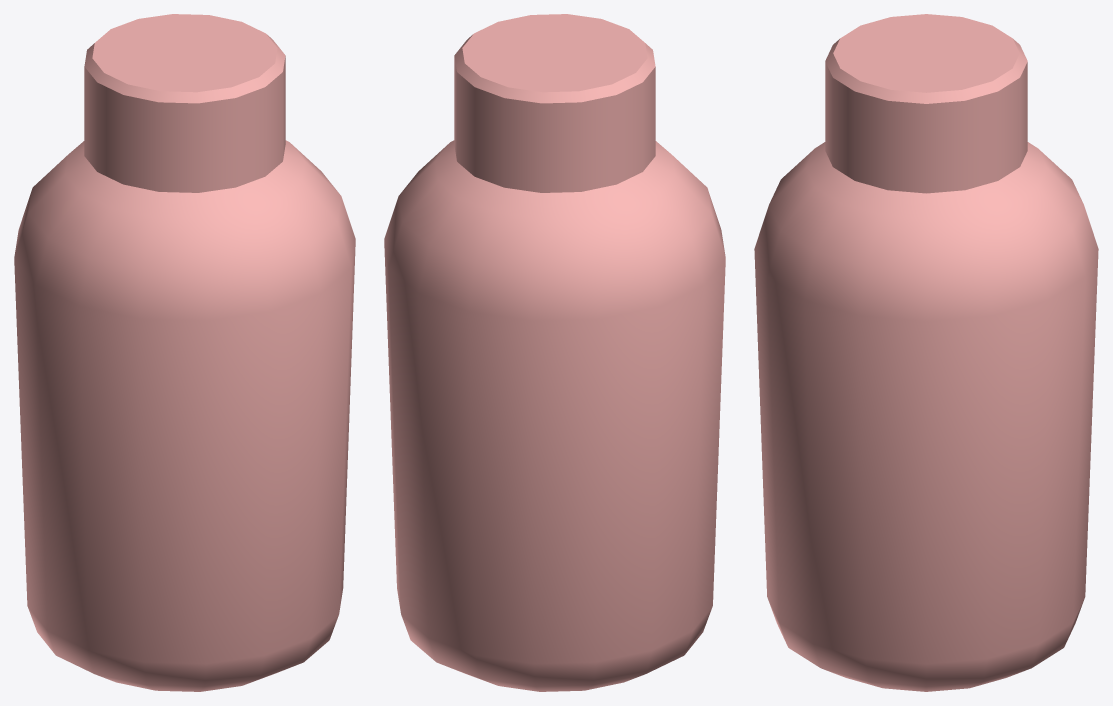
Rendered from medkit_small.fbx.
3 renders of one model, left to right at view 1: azimuth 30°, elevation 25°; view 2: azimuth 150°, elevation 25°; view 3: azimuth 270°, elevation 25°, orthographic.
Visible parts, largest first — view 1: medkit_small_reference; view 2: medkit_small_reference; view 3: medkit_small_reference.
Boxes of the visible parts, <box> form: medkit_small_reference: <box>14,14,355,691</box>; medkit_small_reference: <box>384,14,725,691</box>; medkit_small_reference: <box>754,14,1098,691</box>.
Bounding box in the file's own units: 886 × 1678 × 886.
